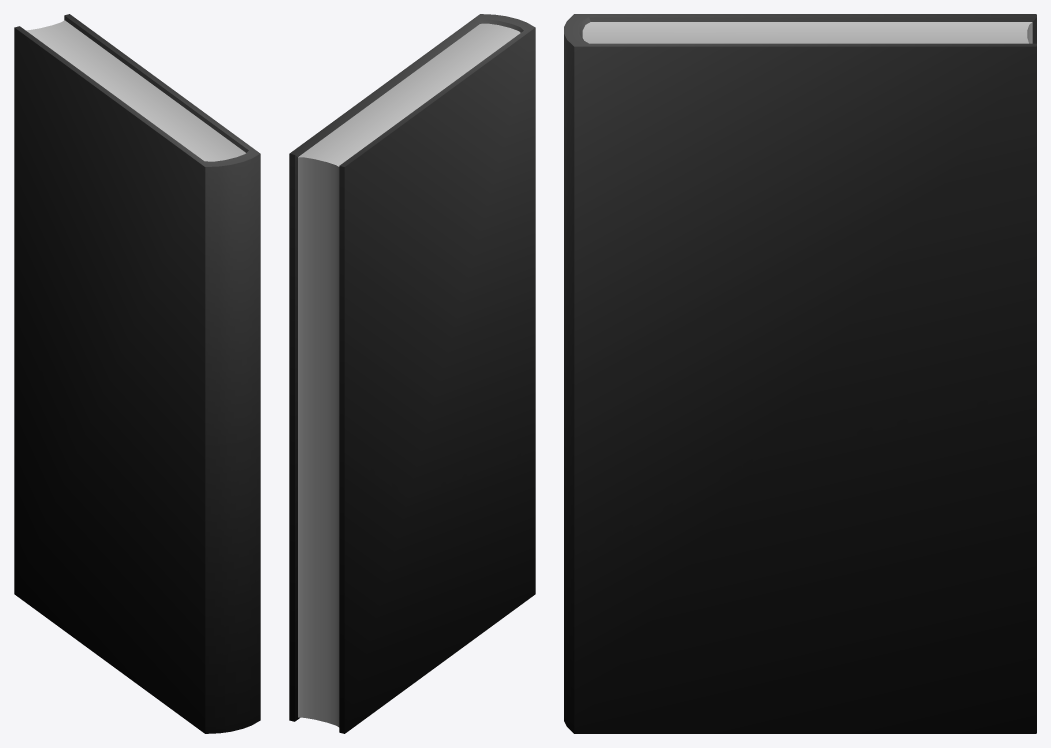
The model's file is Book_06.fbx.
3 renders of one model, left to right at view 1: azimuth 30°, elevation 25°; view 2: azimuth 150°, elevation 25°; view 3: azimuth 270°, elevation 25°, orthographic. The views are drawn at different scales.
Visible parts, largest first — view 1: book_6; view 2: book_6; view 3: book_6.
Part boxes in pixels (box(x1,y1,x2,y2)): book_6: box(14, 14, 260, 733); book_6: box(289, 14, 535, 733); book_6: box(564, 14, 1036, 733).
Bounding box in the file's own units: 0.0261 × 0.2551 × 0.1591.
